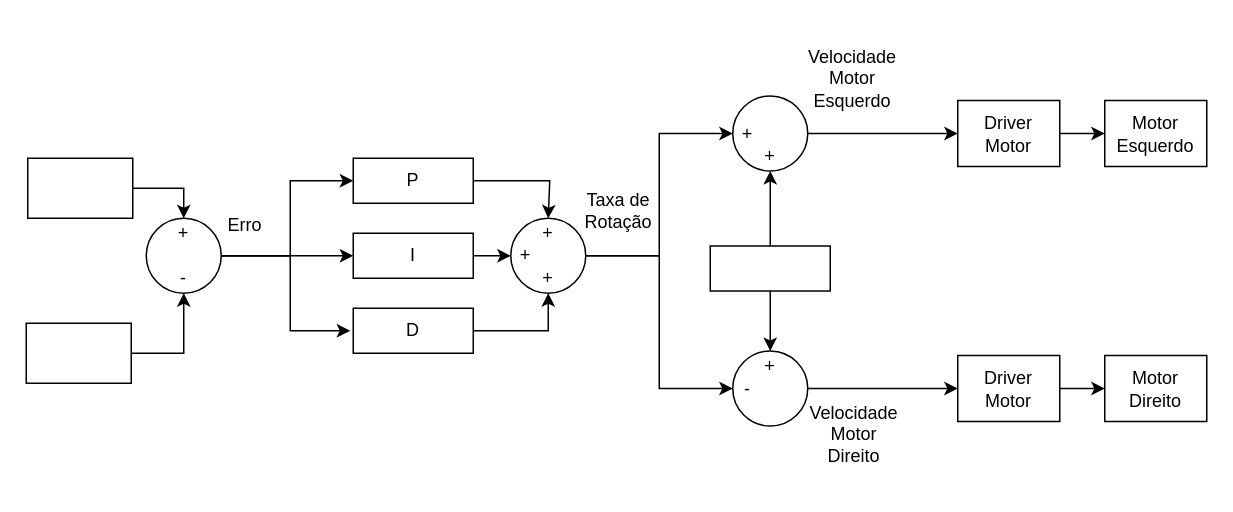
Some shapes in this 1233 by 512 pixel diagram are drawn without their labels. The shapes that lost their labels are listed below. From the top down, each one's box as (x1, y1, x2, y2) in pixels, then its label:
(26, 157, 133, 218): Sensor Esquerdo
(709, 244, 830, 291): Offset
(25, 322, 131, 383): Sensor Direito
